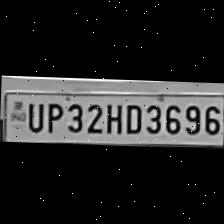2: (83, 98, 103, 134)
3: (63, 98, 83, 134), (142, 100, 162, 135)
6: (200, 101, 222, 136), (162, 100, 180, 136)
9: (181, 100, 201, 136)
D: (122, 98, 142, 134)
H: (103, 99, 123, 136)
P: (42, 98, 62, 134)
U: (24, 98, 44, 133)
